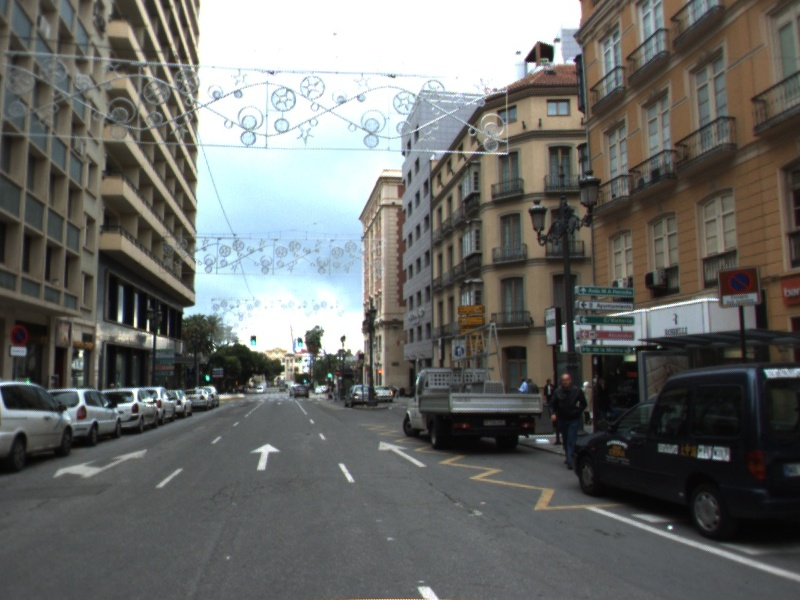STRAIGHT: (376, 439, 431, 469), (248, 441, 284, 473)
STRAIGHT_LEFT: (51, 447, 149, 480)
